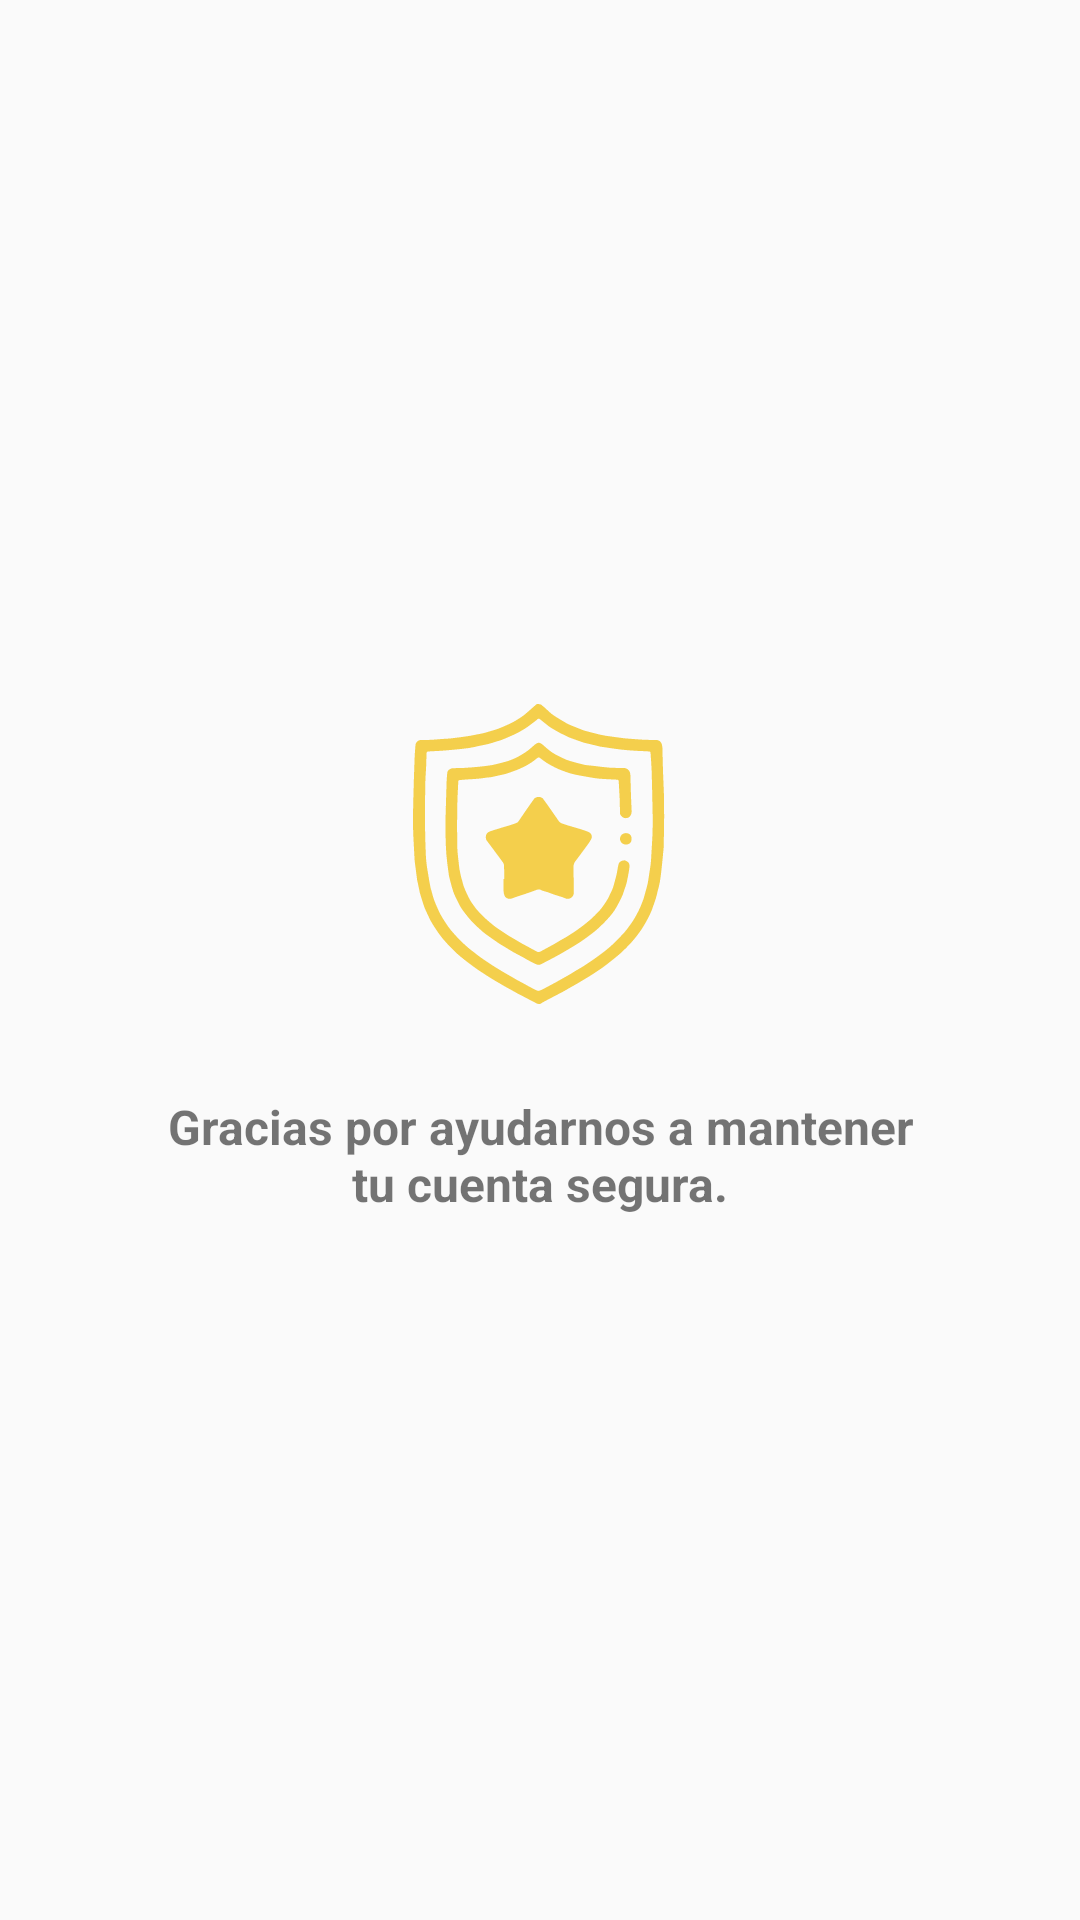

Named icons in this screenshot (1080 x 1920) and their bounding boxes, (x1, y1, x2, y2):
escudo: (413, 704, 665, 1004)
